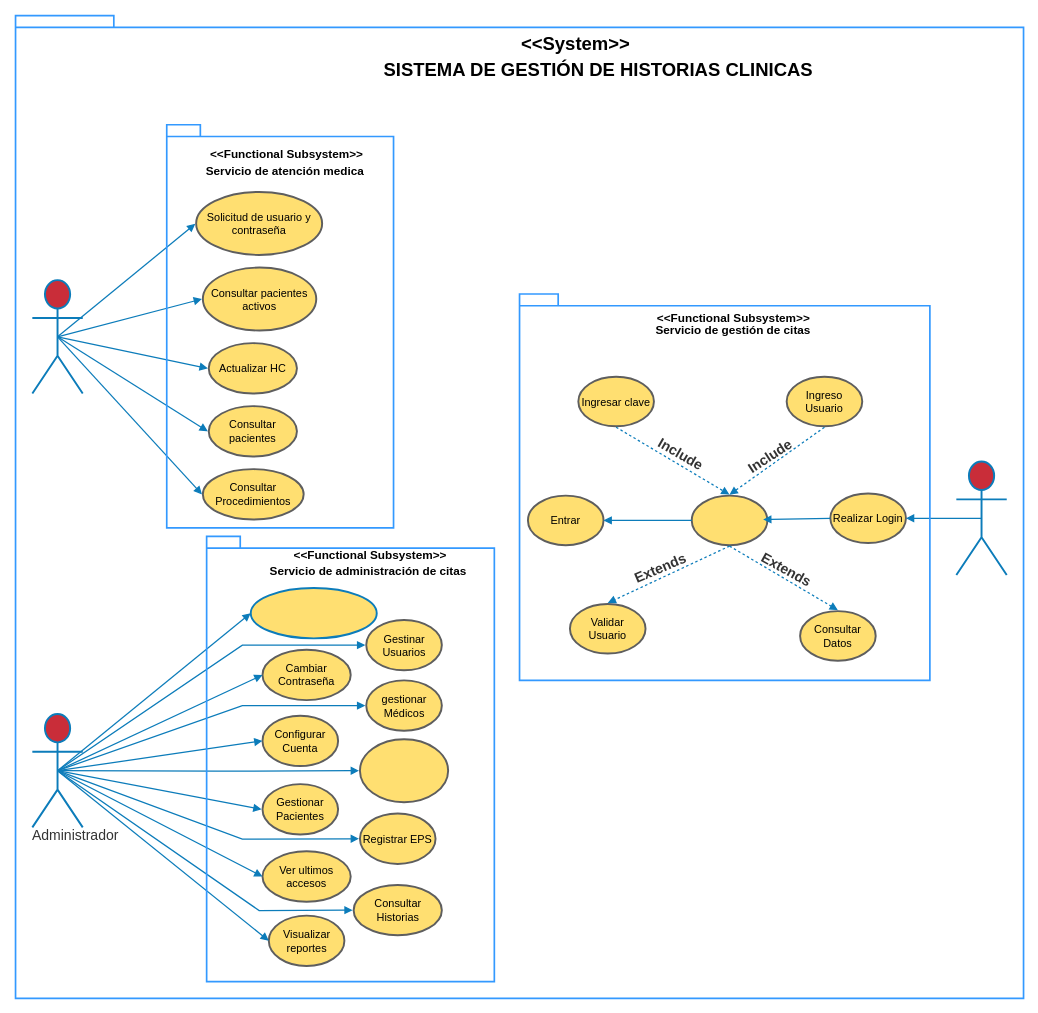
The diagram is 1038 pixels wide and 1013 high, and some of its shapes have lost their labels. Here are the shapes that lost their labels. From the top down, the box of each, then its label:
(31, 279, 83, 394): Medico
(690, 494, 768, 546): Validar acceso
(955, 460, 1007, 576): Usuario
(249, 587, 377, 639): Solicitar Usuario y Contraseña
(359, 738, 449, 803): Gestionar Procedimientos
